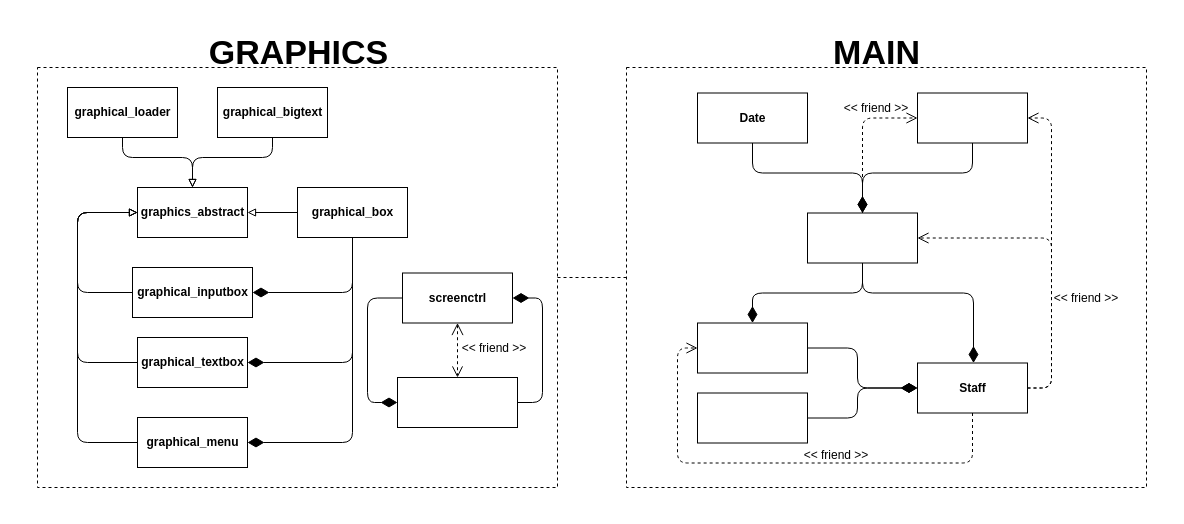
Some shapes in this 1184 by 524 pixel diagram are drawn without their labels. The shapes that lost their labels are listed below. From the top down, each one's box as (x1, y1, x2, y2) in pixels, then its label:
(916, 92, 1028, 143): Account
(806, 212, 918, 263): Infor
(696, 322, 808, 373): Employee
(396, 376, 518, 428): SingletonDestroyer
(696, 392, 808, 443): Record
